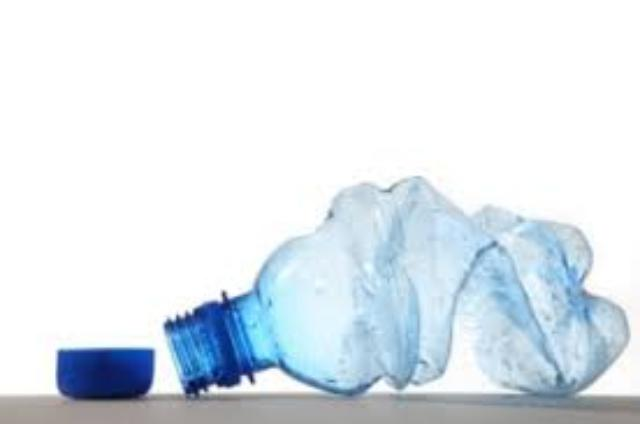plastic: (162, 174, 624, 390)
